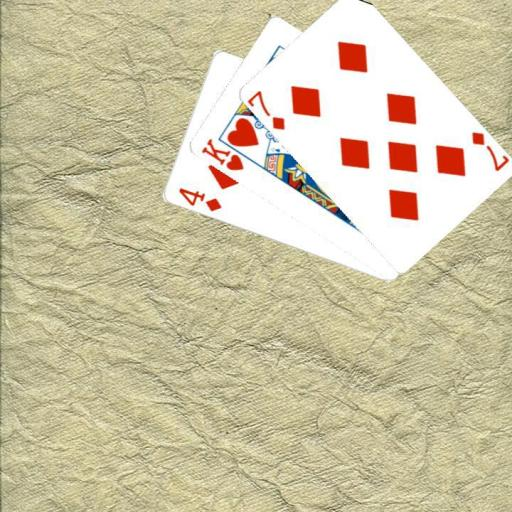4D: (175, 185, 223, 213)
7D: (246, 87, 287, 132), (468, 128, 509, 173)
KH: (198, 135, 245, 173)
